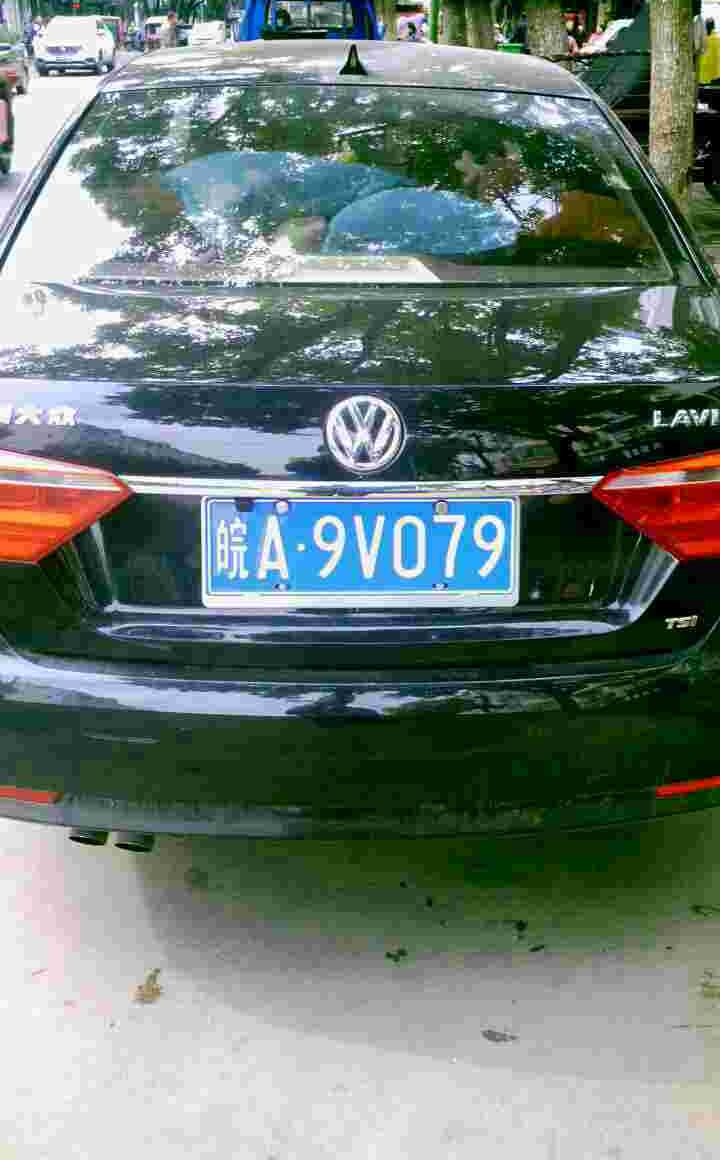license_plate: (207, 499, 506, 593)
